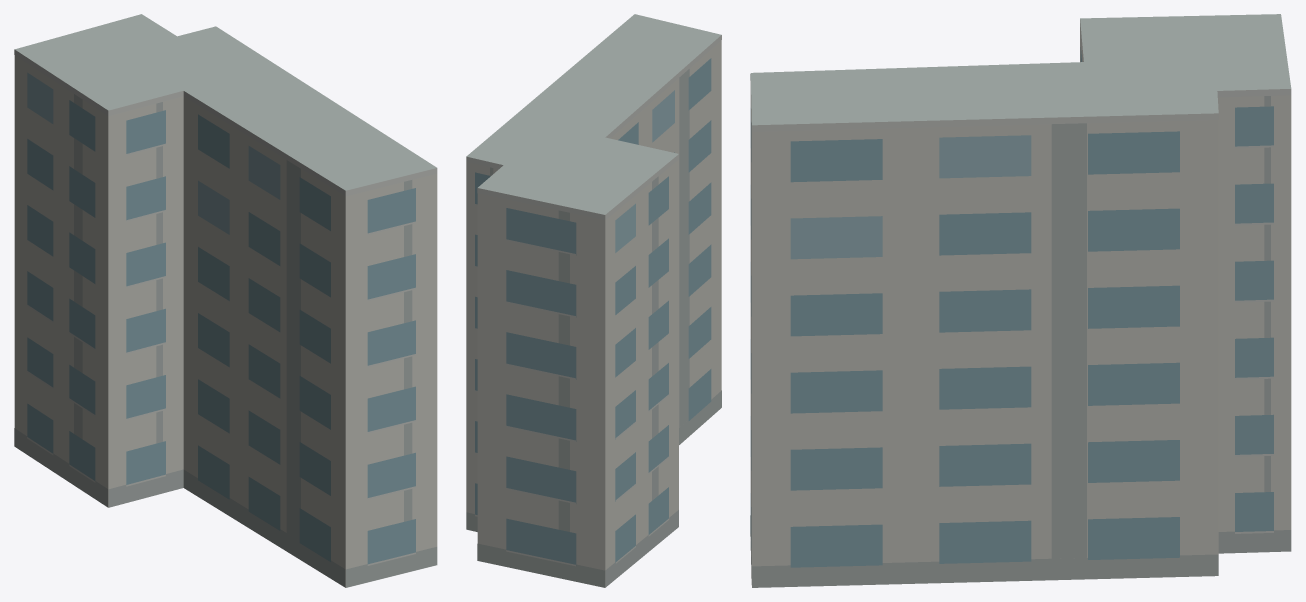
Rendered from survey-upis-32986004.glb.
The picture shows the model from 3 angles, left to right: view 1: azimuth 30°, elevation 25°; view 2: azimuth 150°, elevation 25°; view 3: azimuth 270°, elevation 25°; orthographic projection. The views are drawn at different scales.
Parts seen in each view (by area): view 1: survey-upis-32986004.tmp; view 2: survey-upis-32986004.tmp; view 3: survey-upis-32986004.tmp.
Boxes of the visible parts, left/top/right/bottom form: survey-upis-32986004.tmp: left=14, top=14, right=437, bottom=587; survey-upis-32986004.tmp: left=466, top=14, right=721, bottom=587; survey-upis-32986004.tmp: left=750, top=14, right=1291, bottom=587.
Size of the model in its own units: 8.88 by 17.2 by 18.23.
